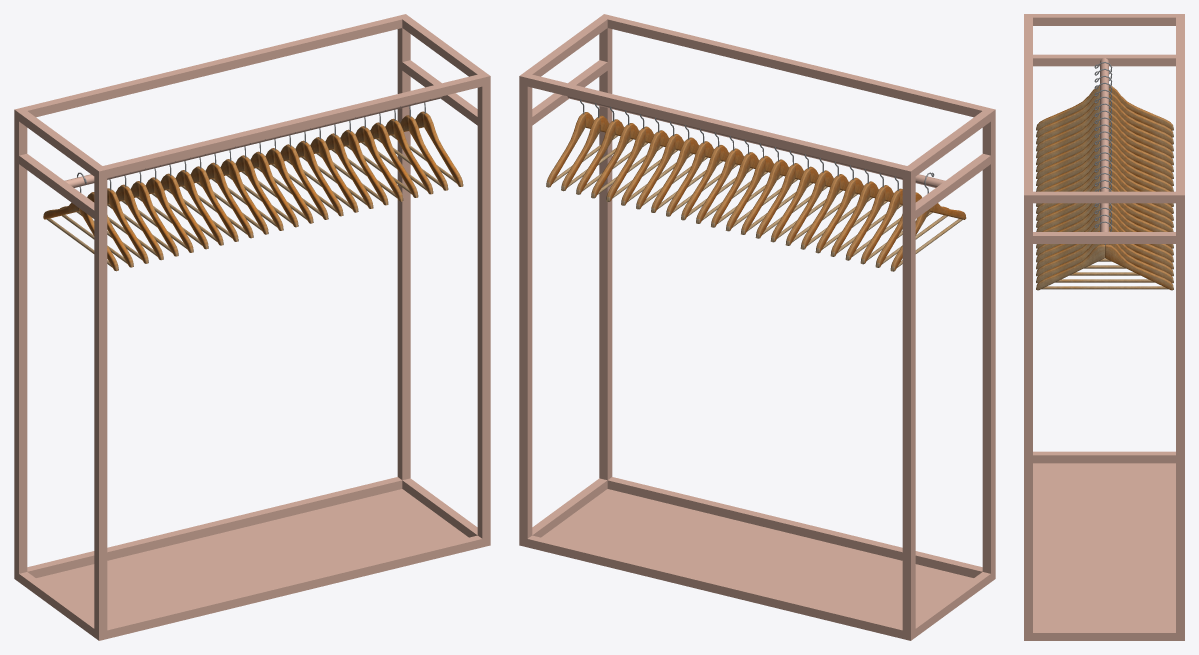
3 renders of one model, left to right at view 1: azimuth 30°, elevation 25°; view 2: azimuth 150°, elevation 25°; view 3: azimuth 270°, elevation 25°, orthographic. The views are drawn at different scales.
Visible parts, largest first — view 1: Mesh1, Object_2; view 2: Mesh1, Object_2; view 3: Mesh1, Object_2.
Boxes of the visible parts, box(x1,y1,x2,y2) form: Mesh1: box(14, 14, 490, 640); Object_2: box(43, 99, 463, 271); Mesh1: box(519, 14, 995, 640); Object_2: box(546, 99, 966, 271); Mesh1: box(1024, 14, 1184, 640); Object_2: box(1036, 62, 1173, 290).
Size of the model in its own units: 48 by 55 by 18.
2 materials, 1 textured.
